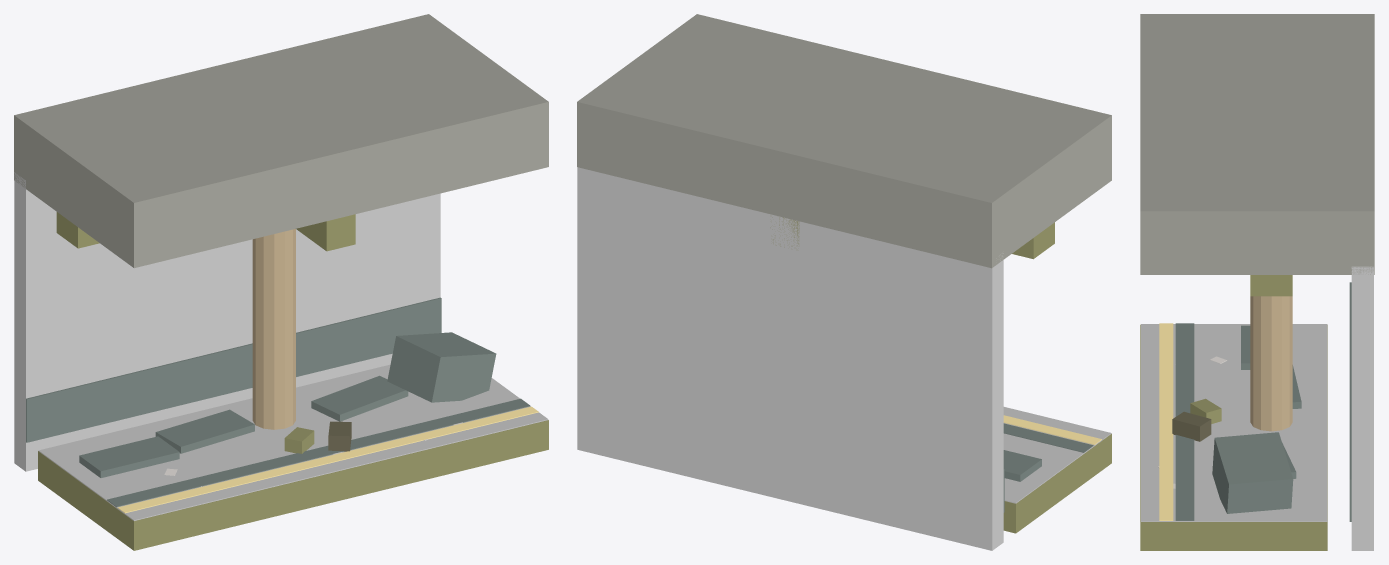
Rendered from SM_AndenLosa_Lateral_v3_Campamento_LOD0.fbx.
3 views of the same model, side by side, from view 1: azimuth 30°, elevation 25°; view 2: azimuth 150°, elevation 25°; view 3: azimuth 270°, elevation 25° (orthographic). The views are drawn at different scales.
Visible parts, largest first — view 1: SM_anden_losa_v8_LOD0, Losa; view 2: SM_anden_losa_v8_LOD0, Losa; view 3: Losa, SM_anden_losa_v8_LOD0.
Boxes of the visible parts, left/top/right/bottom form: SM_anden_losa_v8_LOD0: left=14, top=172, right=548, bottom=550; Losa: left=14, top=14, right=548, bottom=268; SM_anden_losa_v8_LOD0: left=577, top=167, right=1111, bottom=550; Losa: left=577, top=14, right=1111, bottom=268; Losa: left=1140, top=14, right=1374, bottom=296; SM_anden_losa_v8_LOD0: left=1140, top=266, right=1373, bottom=550.
Bounding box in the file's own units: 9.98 × 8 × 5.
